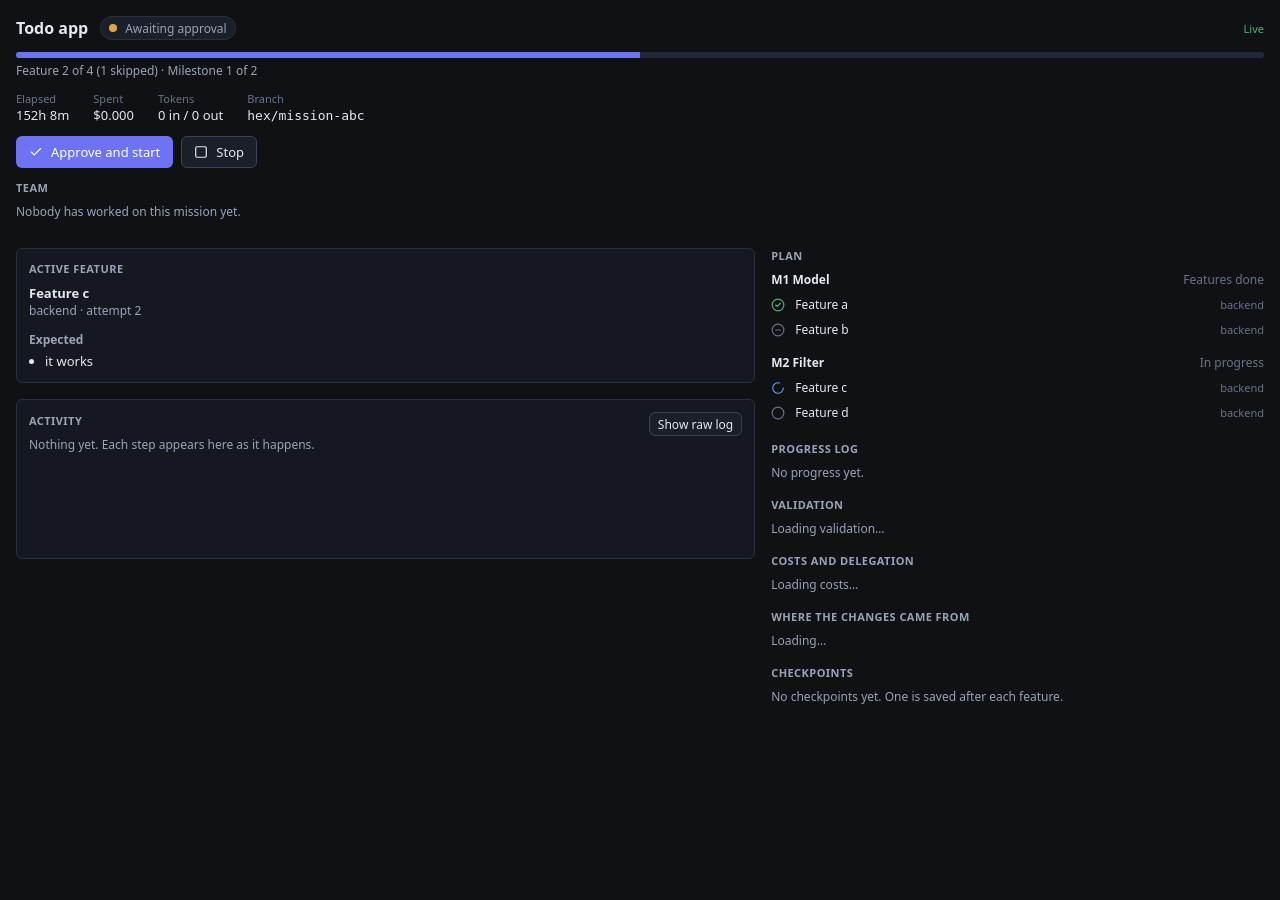
it: MissionScreen: awaiting approval › shows the error when the backend refuses
What coordinates should you click on to do the following:
click the button "Approve and start"
I would click on:
 (95, 152)
Its box is [16, 136, 173, 168].
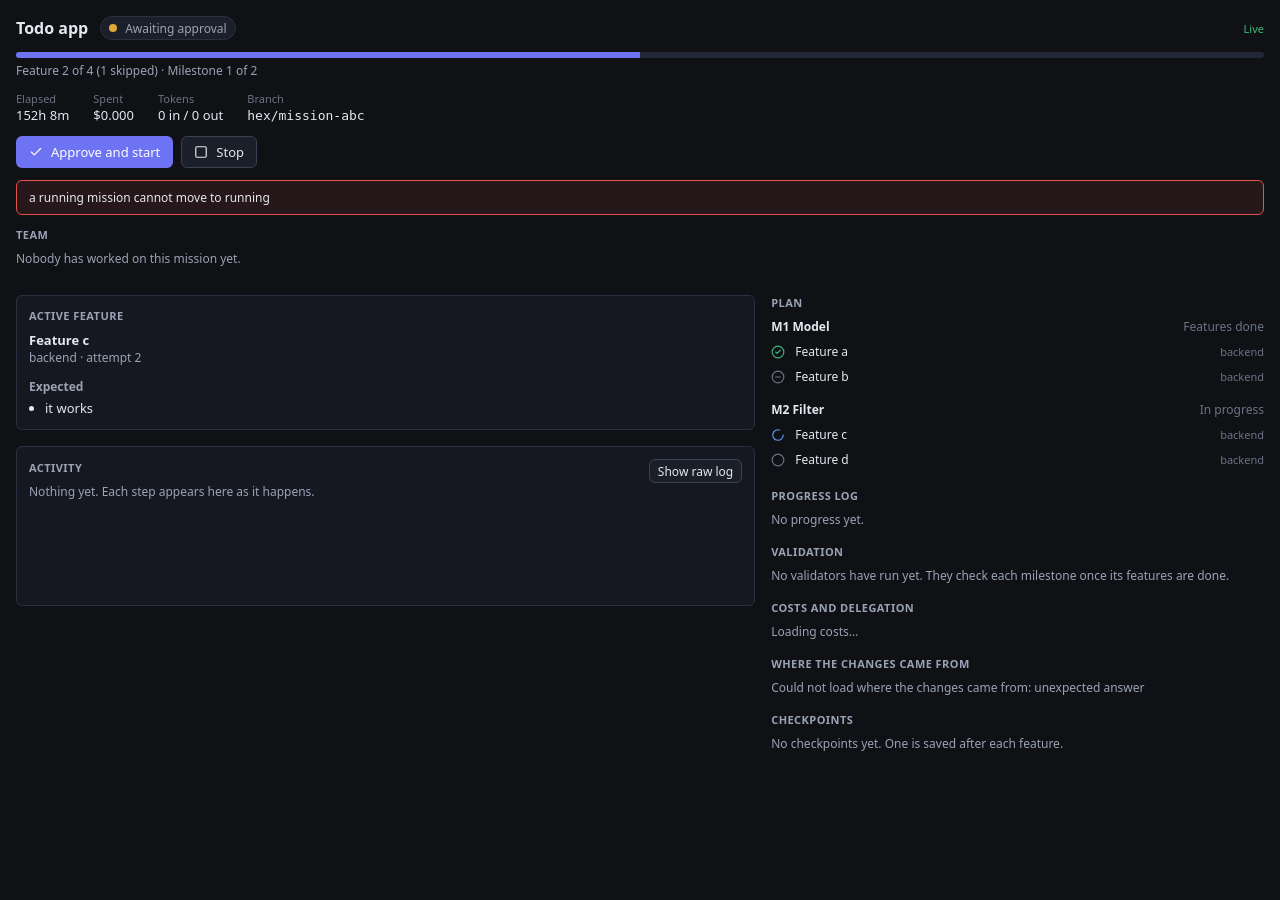
Result: the message reads "a running mission cannot move to running" at [29, 189, 270, 206]
